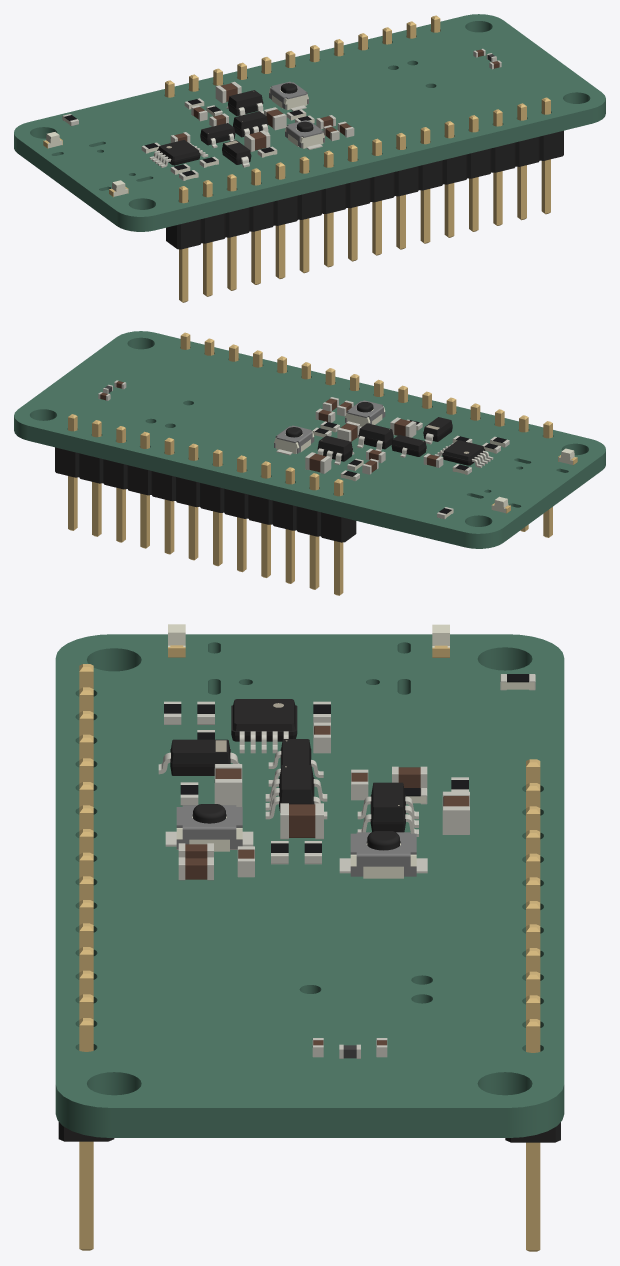
File: payload_v1.glb
The picture shows the model from 3 angles, top to bottom: view 1: azimuth 30°, elevation 25°; view 2: azimuth 150°, elevation 25°; view 3: azimuth 270°, elevation 25°; orthographic projection. The views are drawn at different scales.
Parts seen in each view (by area): view 1: =>[0:1:1:15], J1, J2, U2, SW1, SW2, U3, U4, Q1, D3, C9, C8; view 2: =>[0:1:1:15], J2, J1, U2, SW2, SW1, U4, U3, Q1, D3, C8, C9 (+1 smaller); view 3: =>[0:1:1:15], J1, J2, SW2, SW1, U2, U3, D3, U4, C10, C8, C9 (+2 smaller).
Part boxes in pixels (<box>): =>[0:1:1:15]: <box>14,14,605,231</box>; J1: <box>166,97,563,302</box>; J2: <box>165,15,440,97</box>; U2: <box>149,140,208,167</box>; SW1: <box>285,120,324,149</box>; SW2: <box>269,81,308,111</box>; U3: <box>226,90,263,115</box>; U4: <box>233,111,269,137</box>; Q1: <box>200,123,235,147</box>; D3: <box>222,140,251,167</box>; C9: <box>244,130,270,151</box>; C8: <box>215,81,241,103</box>; =>[0:1:1:15]: <box>14,331,605,548</box>; J2: <box>55,414,356,595</box>; J1: <box>180,332,552,537</box>; U2: <box>434,440,493,467</box>; SW2: <box>274,425,314,455</box>; SW1: <box>345,400,385,427</box>; U4: <box>357,423,393,451</box>; U3: <box>317,435,354,465</box>; Q1: <box>391,435,426,457</box>; D3: <box>423,417,452,444</box>; C8: <box>305,452,331,473</box>; C9: <box>390,417,416,437</box>; =>[0:1:1:15]: <box>55,634,564,1137</box>; J1: <box>58,664,114,1250</box>; J2: <box>505,759,560,1251</box>; SW2: <box>339,831,427,878</box>; SW1: <box>165,804,253,851</box>; U2: <box>231,699,297,753</box>; U3: <box>357,782,418,836</box>; D3: <box>158,739,239,775</box>; U4: <box>265,765,327,819</box>; C10: <box>280,803,323,839</box>; C8: <box>442,791,469,834</box>; C9: <box>214,764,242,806</box>.
Bounding box in the file's own units: 0.051 × 0.0118 × 0.0231.
